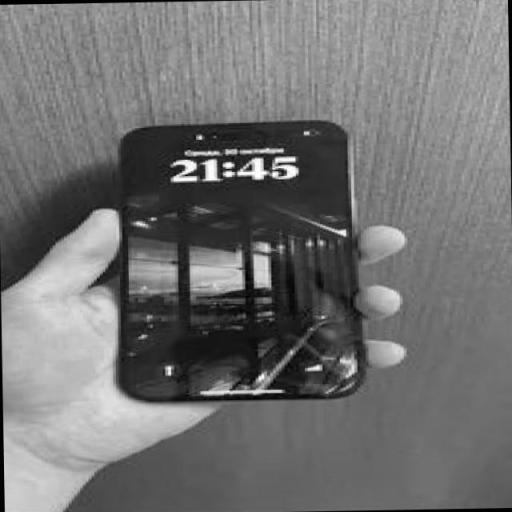phone: (113, 120, 369, 400)
